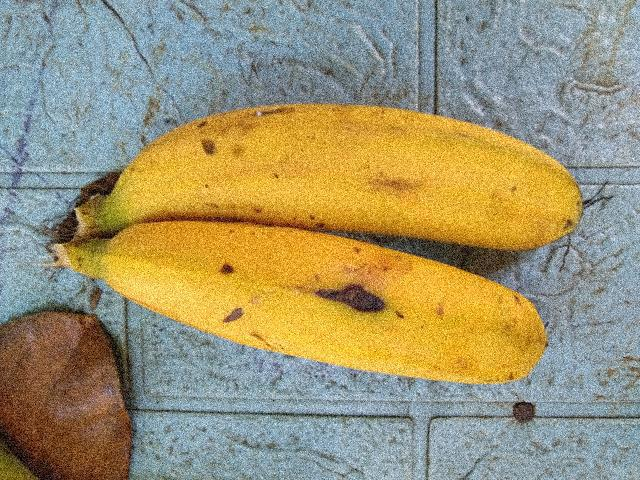freshripe: (100, 82, 582, 264)
ripe: (90, 208, 588, 410)
